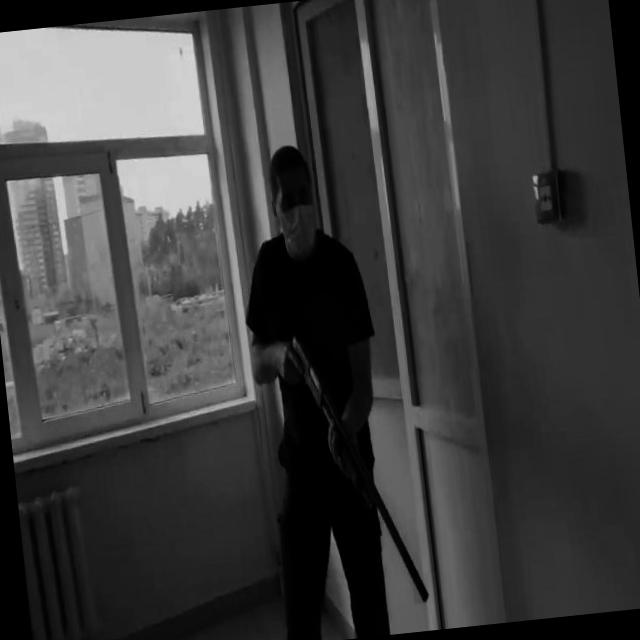gun: (288, 318, 430, 616)
person with a gun: (227, 135, 436, 640)
